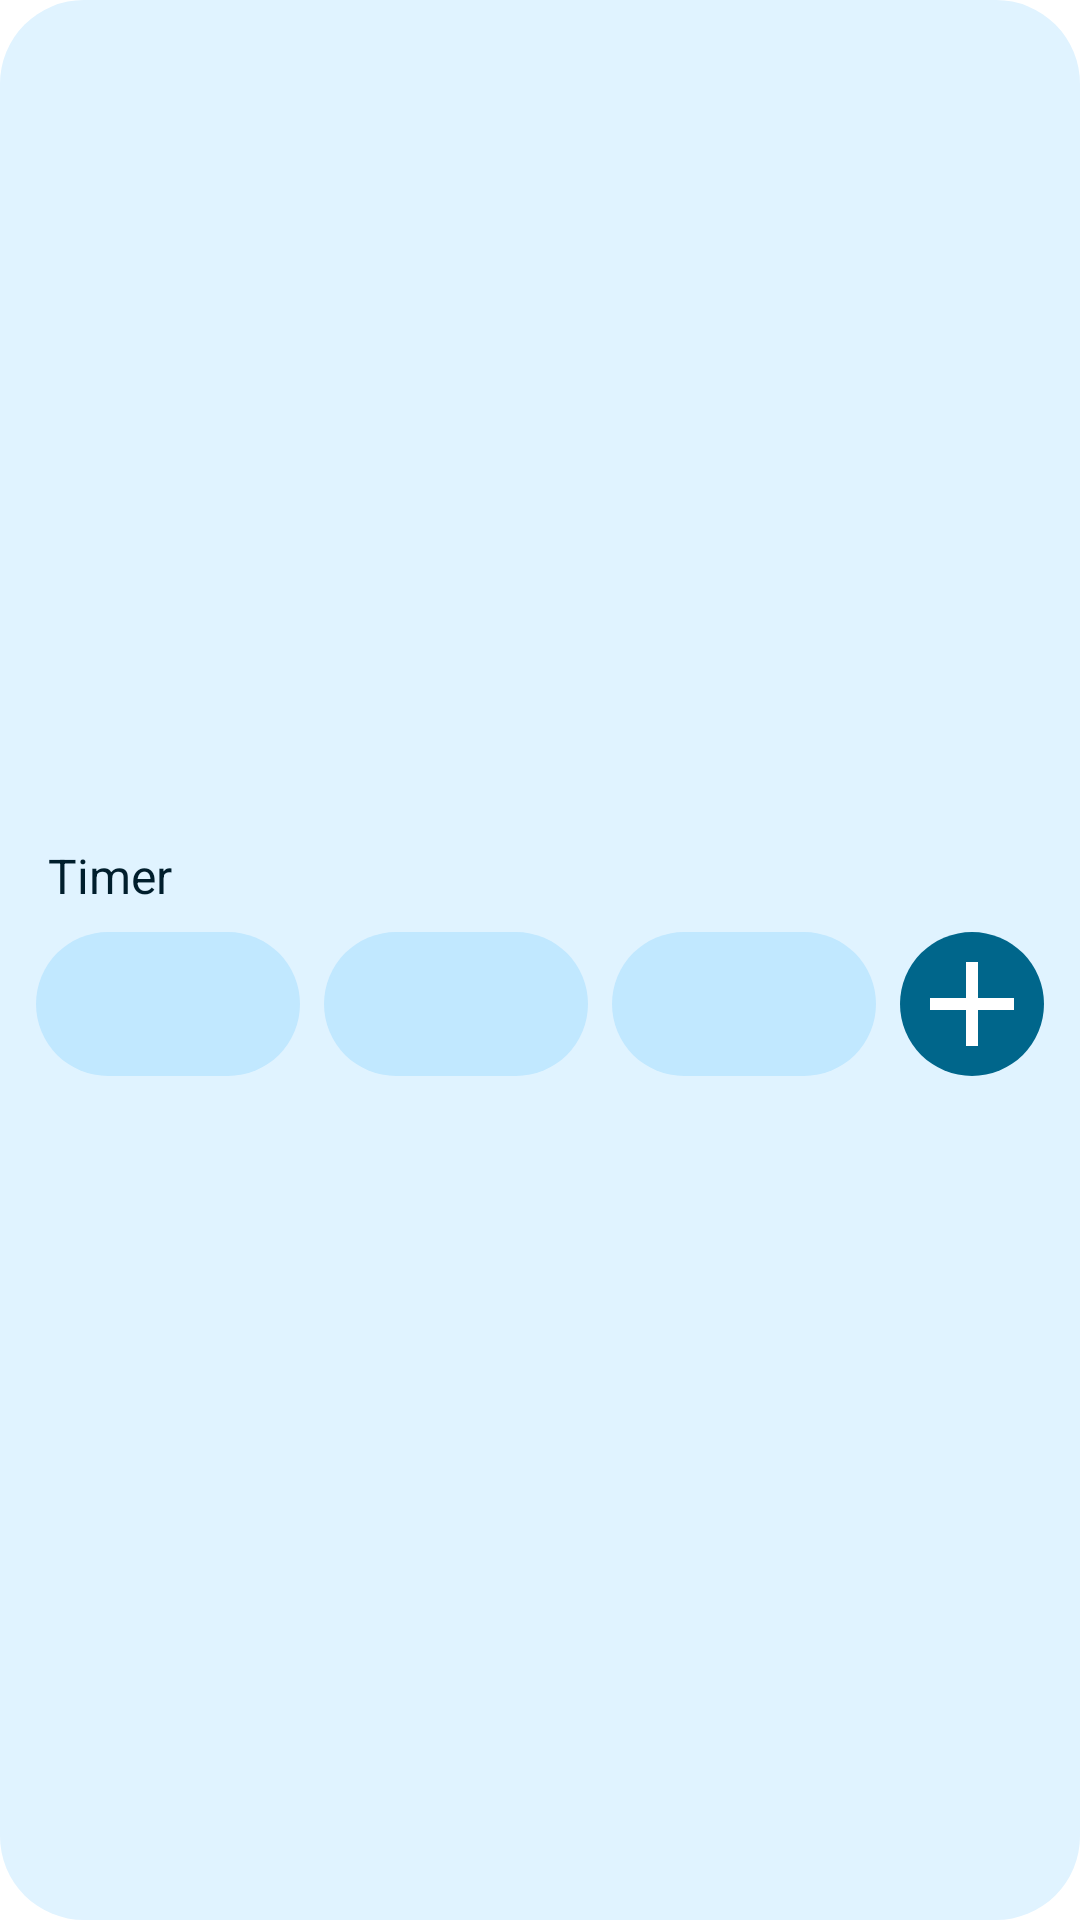

Where icons sit on this 1080x1920 app screen, as bbox=(x1, y1, x2, y2):
Add Timer: bbox=(900, 932, 1044, 1076)
